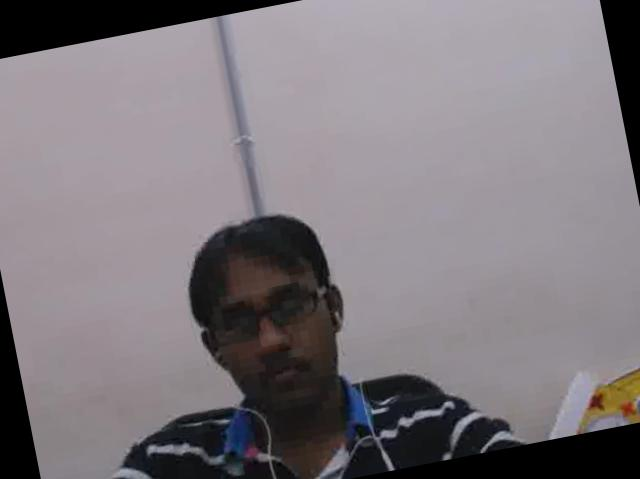bosan: (204, 244, 349, 417)
